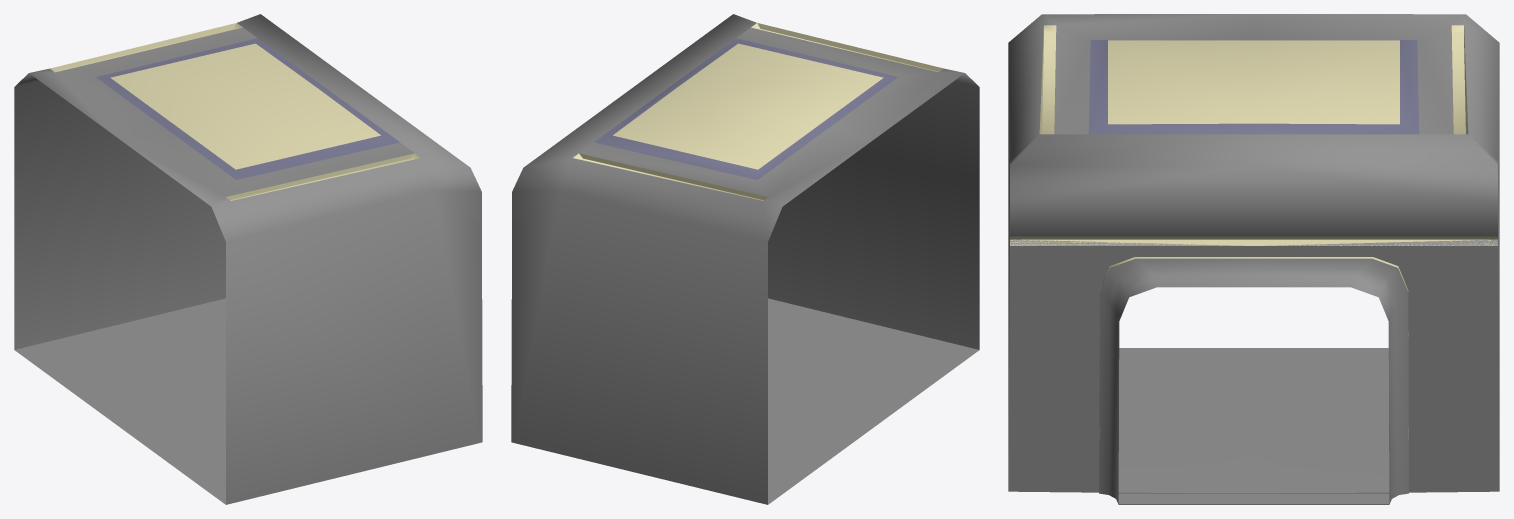
Rendered from Cor1.fbx.
The picture shows the model from 3 angles, left to right: view 1: azimuth 30°, elevation 25°; view 2: azimuth 150°, elevation 25°; view 3: azimuth 270°, elevation 25°; orthographic projection. The views are drawn at different scales.
Parts seen in each view (by area): view 1: Cube.042; view 2: Cube.042; view 3: Cube.042.
Boxes of the visible parts, x1,y1,x2,y2 form: Cube.042: [14, 14, 482, 504]; Cube.042: [511, 14, 979, 504]; Cube.042: [1008, 14, 1499, 504].
Size of the model in its own units: 302 by 304 by 400.
